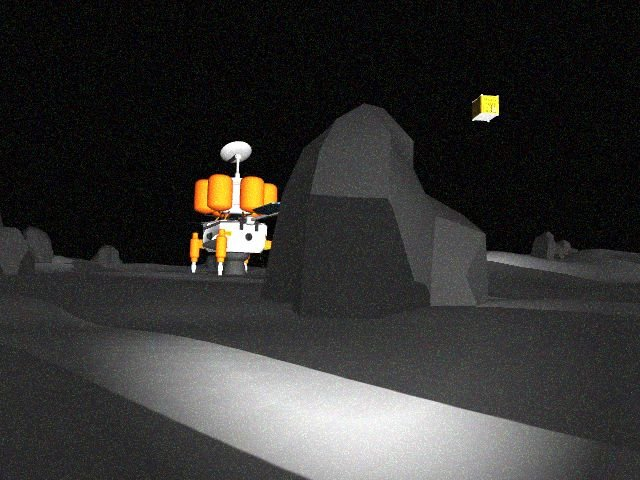homebase: (173, 140, 294, 278)
